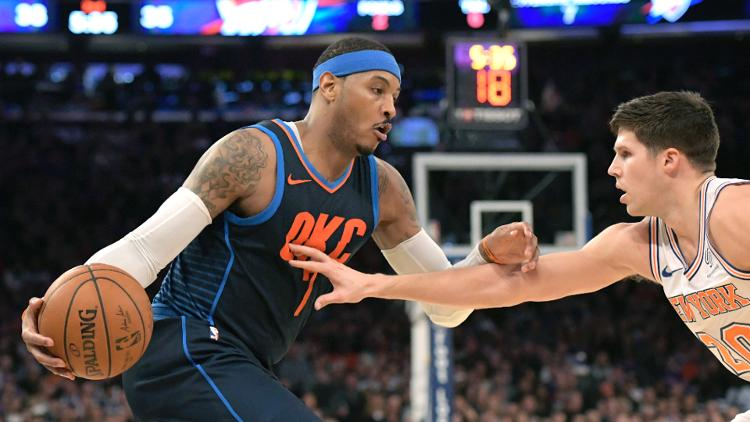basketball: (16, 249, 154, 385)
basketball player: (166, 19, 424, 420), (583, 77, 750, 393)
